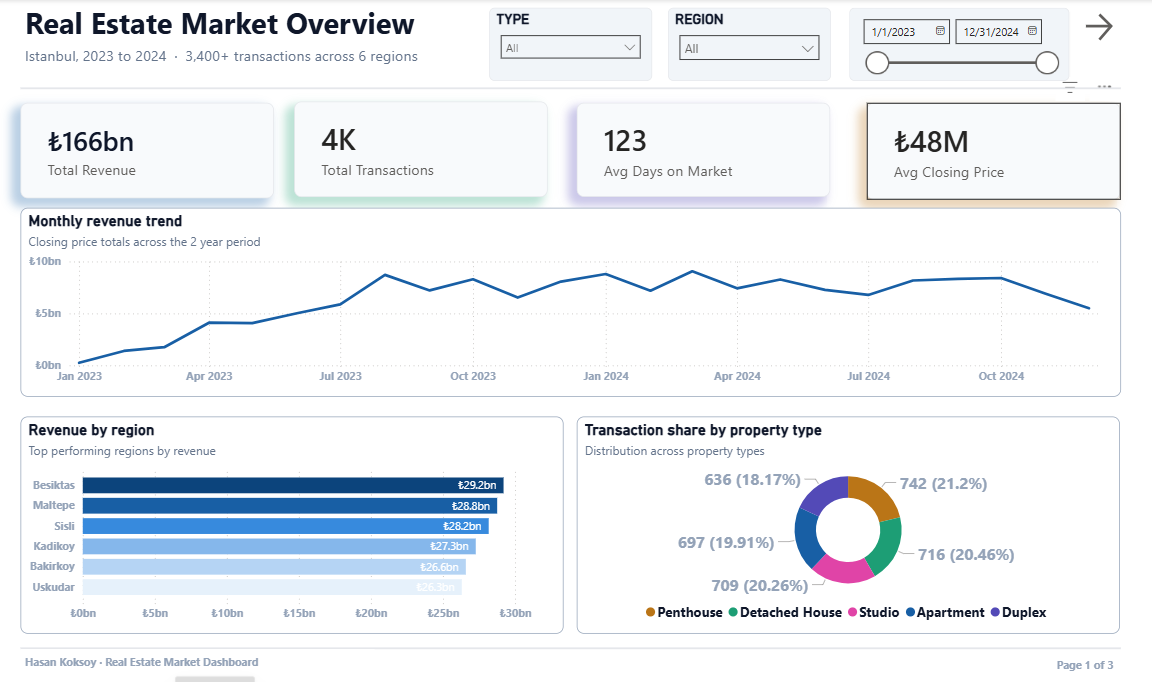

What the dashboard file says about the page in this screenshot:
{"tool":"powerbi","page":{"name":"Overview","canvas":[1280,760],"ordinal":0},"visuals":[{"type":"textbox","box":[24.7,0,539.3,64.5],"z":0},{"type":"textbox","box":[24.7,45.3,492.6,45.3],"z":1},{"type":"cardVisual","fields":{"Data":["transactions.Total Revenue"]},"box":[24.7,115.3,279.9,105.7],"z":2},{"type":"cardVisual","fields":{"Data":["transactions.Total Transactions"]},"box":[328,113.9,279.9,105.7],"z":3},{"type":"cardVisual","fields":{"Data":["transactions.Avg Closing Price"]},"box":[960.6,115.3,279.9,107],"z":4},{"type":"cardVisual","fields":{"Data":["transactions.Avg Days on Market"]},"box":[639.5,115.3,279.9,104.3],"z":5},{"type":"lineChart","title":"Monthly revenue trend","fields":{"Y":["transactions.Total Revenue"],"Category":["calendar.year_month"]},"box":[24.7,230.5,1215.8,208.6],"z":6},{"type":"barChart","title":"Revenue by region","fields":{"Category":["regions.region_name"],"Y":["transactions.Total Revenue"]},"box":[24.7,461.1,600,240.1],"z":7},{"type":"donutChart","title":"Transaction share by property type","fields":{"Category":["property_attributes.property_type"],"Y":["transactions.Total Transactions"]},"box":[639.5,461.1,600,240.1],"z":8},{"type":"slicer","fields":{"Values":["calendar.date"]},"box":[940,9.6,242.9,81],"z":9},{"type":"slicer","title":"REGION","fields":{"Values":["regions.region_name"]},"box":[739.6,9.6,179.8,81],"z":10},{"type":"slicer","title":"TYPE","fields":{"Values":["property_attributes.property_type"]},"box":[543.4,9.6,179.8,81],"z":11},{"type":"shape","box":[24.7,82.3,1215.8,31.6],"z":12},{"type":"shape","box":[24.7,701.2,1215.8,31.6],"z":13},{"type":"textbox","box":[941.3,720.4,299.1,27.4],"z":14},{"type":"textbox","box":[24.7,717.7,391.1,30.2],"z":15},{"type":"actionButton","box":[1196.6,11,43.9,39.8],"z":16}]}

Visuals, with their boxes in screenshot pixels (x1, y1, x2, y2), scaled from the page's 1280x760 canvas onto the 1152x682 screenshot:
textbox: crop(22, 0, 508, 58)
textbox: crop(22, 41, 466, 81)
cardVisual - transactions.Total Revenue: crop(22, 103, 274, 198)
cardVisual - transactions.Total Transactions: crop(295, 102, 547, 197)
cardVisual - transactions.Avg Closing Price: crop(865, 103, 1116, 199)
cardVisual - transactions.Avg Days on Market: crop(576, 103, 827, 197)
"Monthly revenue trend" lineChart: crop(22, 207, 1116, 394)
"Revenue by region" barChart: crop(22, 414, 562, 629)
"Transaction share by property type" donutChart: crop(576, 414, 1116, 629)
slicer - calendar.date: crop(846, 9, 1065, 81)
"REGION" slicer: crop(666, 9, 827, 81)
"TYPE" slicer: crop(489, 9, 651, 81)
shape: crop(22, 74, 1116, 102)
shape: crop(22, 629, 1116, 658)
textbox: crop(847, 646, 1116, 671)
textbox: crop(22, 644, 374, 671)
actionButton: crop(1077, 10, 1116, 46)
